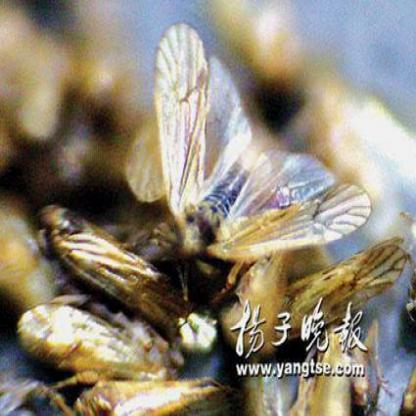brown-planthopper: (152, 20, 375, 268)
